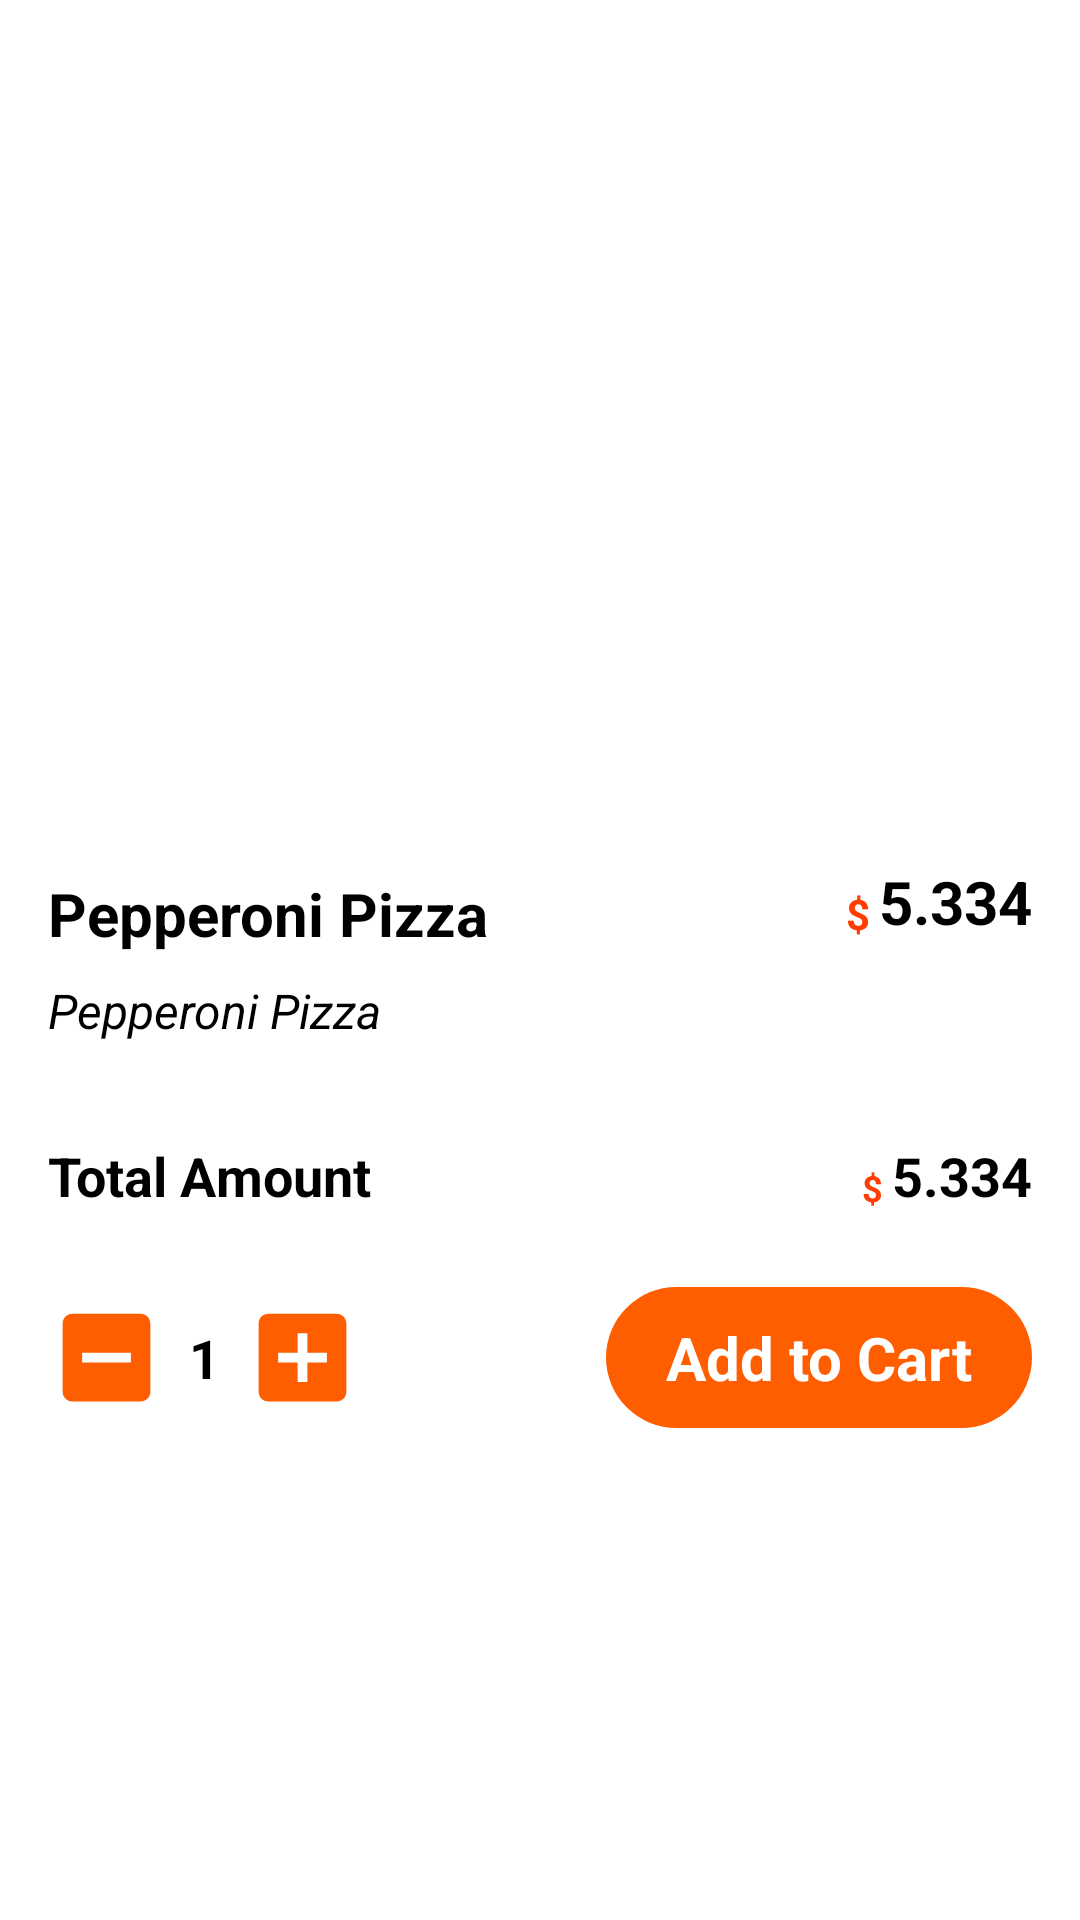

Icons on this 1080*1920 Android screen, each with its box as box=[x1, y1, x2, y2]:
minus: box=[62, 1313, 151, 1402]
plus: box=[258, 1313, 347, 1402]
